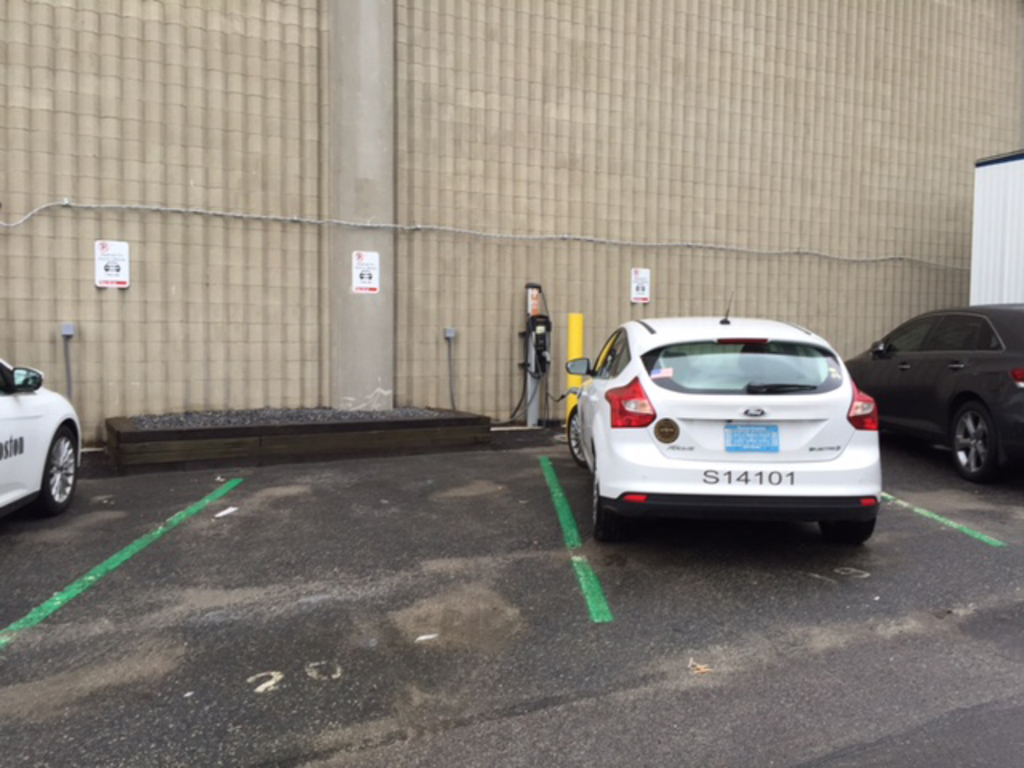cars: (571, 301, 894, 557), (843, 299, 1022, 483), (0, 354, 81, 514)
